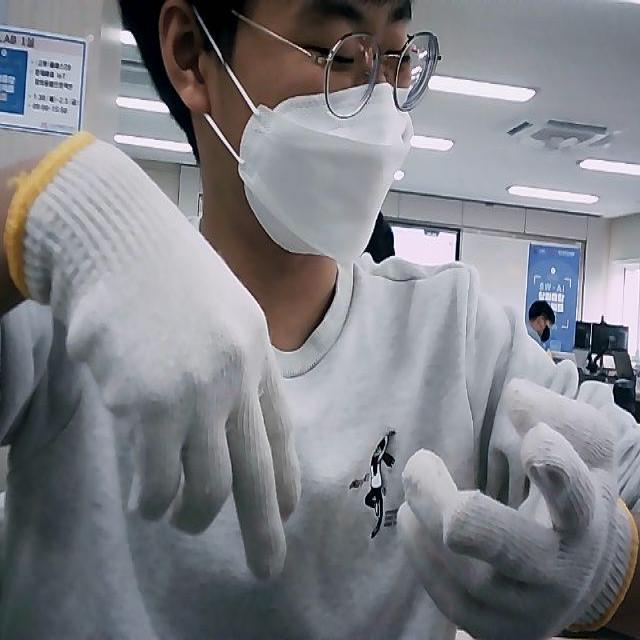GLOVE: (5, 134, 304, 580), (394, 376, 639, 640)
